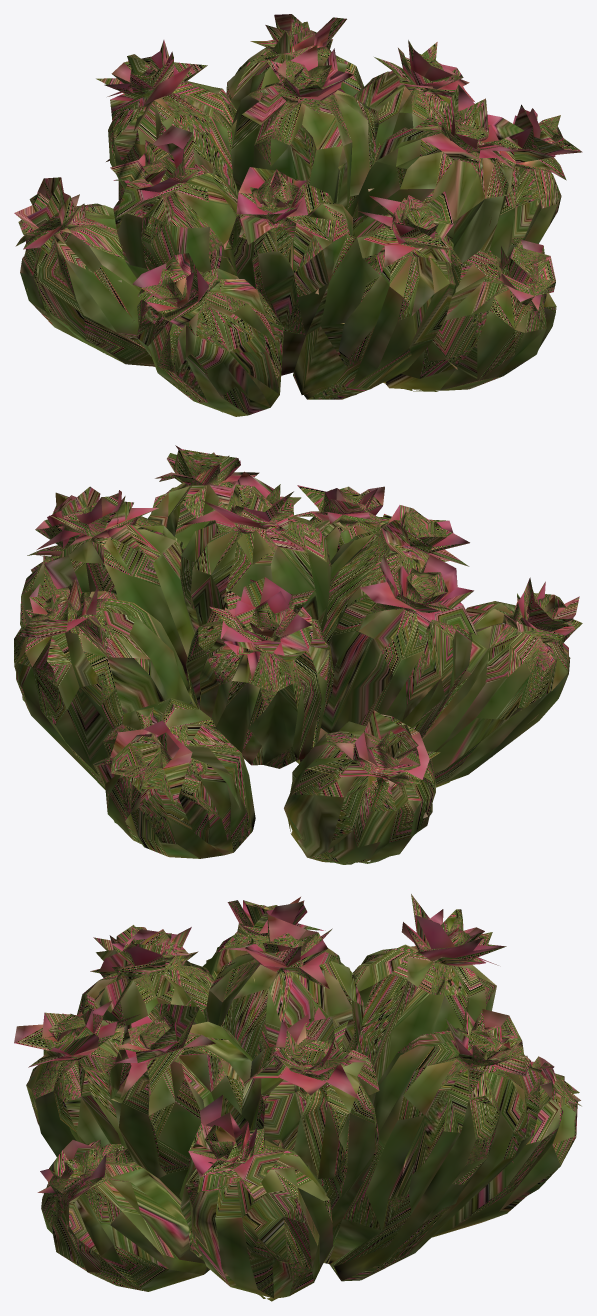
The model's file is desert-plants-hedgehog-cactus-cluster.glb.
3 views of the same model, one above another, from view 1: azimuth 30°, elevation 25°; view 2: azimuth 150°, elevation 25°; view 3: azimuth 270°, elevation 25° (orthographic). The views are drawn at different scales.
Parts seen in each view (by area): view 1: world; view 2: world; view 3: world.
Part boxes in pixels (x1=…): world: x1=14, y1=14, x2=582, y2=416; world: x1=14, y1=445, x2=582, y2=864; world: x1=14, y1=894, x2=581, y2=1301.
Size of the model in its own units: 0.9382 by 0.5756 by 0.9147.
1 material, 1 textured.
